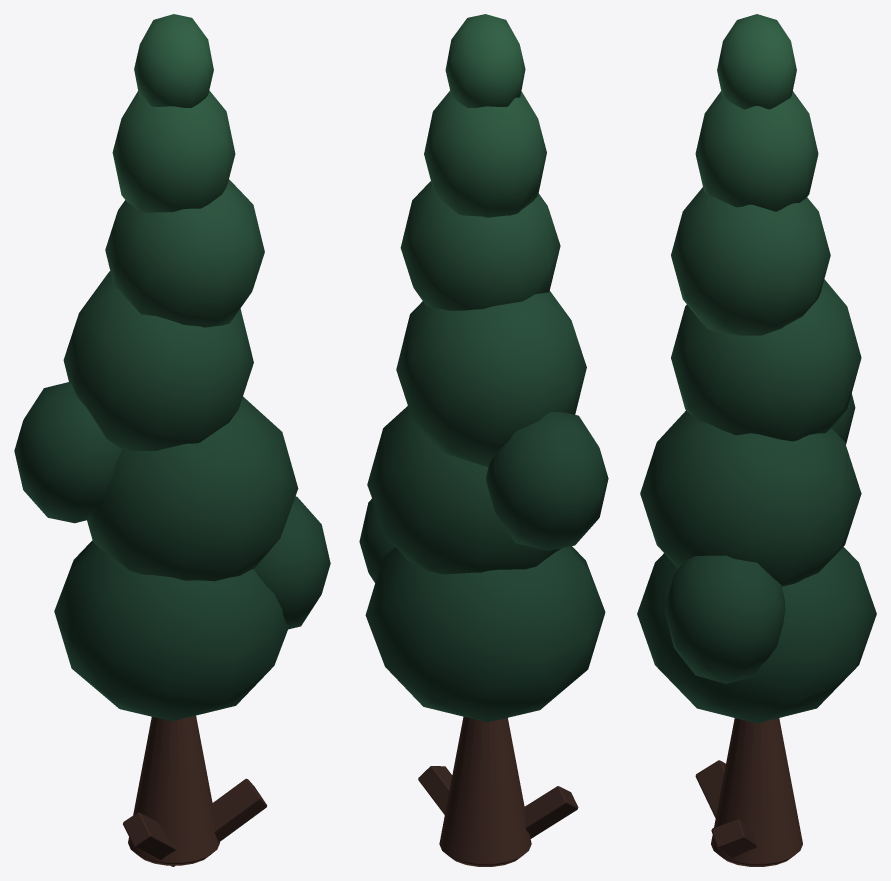
File: tree-yew.5fbbd655.glb
The picture shows the model from 3 angles, left to right: view 1: azimuth 30°, elevation 25°; view 2: azimuth 150°, elevation 25°; view 3: azimuth 270°, elevation 25°; orthographic projection.
Visible parts, largest first — view 1: body; view 2: body; view 3: body.
Boxes of the visible parts, <box> form: body: <box>14,14,330,866</box>; body: <box>359,14,608,866</box>; body: <box>637,14,876,866</box>.
Size of the model in its own units: 1 by 3.03 by 0.78.
